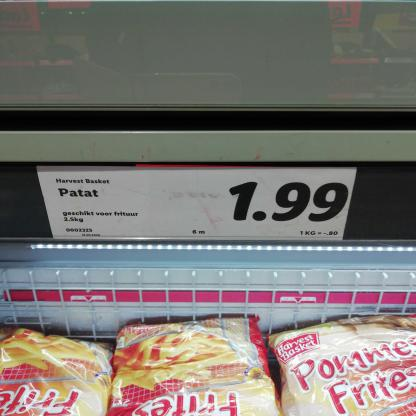prtg: (37, 167, 358, 242)
